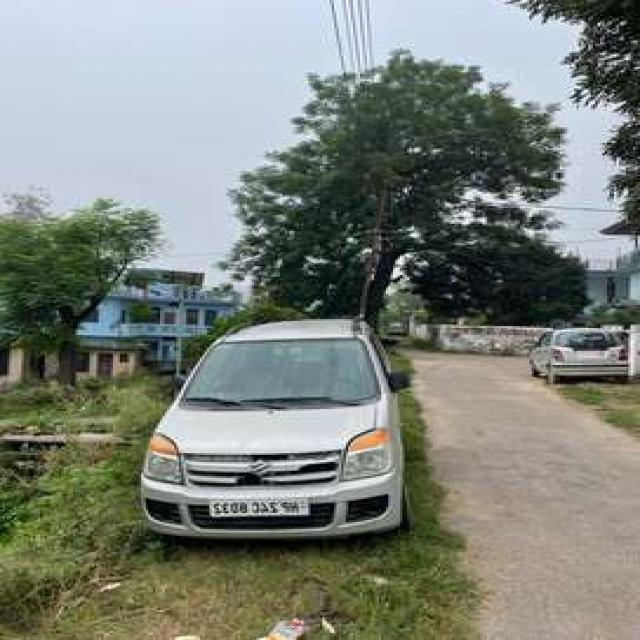license_plate: (208, 495, 310, 518), (579, 351, 604, 359)
